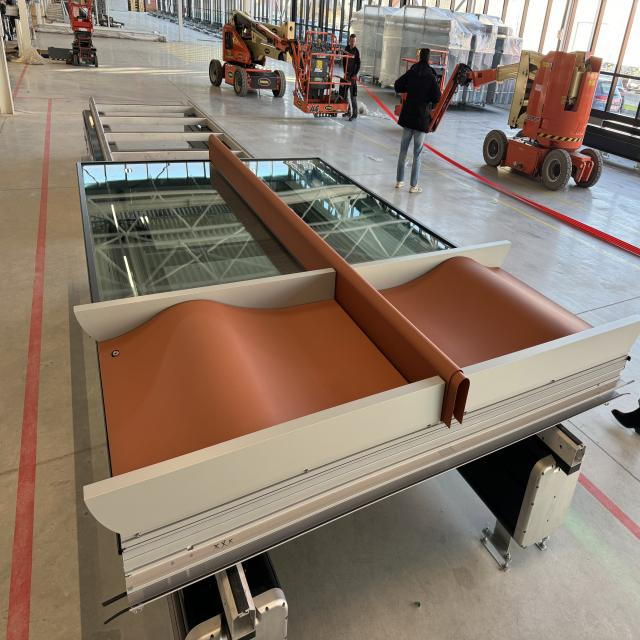vijak_labav: (551, 378, 560, 386)
vijak_nedostaje: (620, 352, 625, 359)
